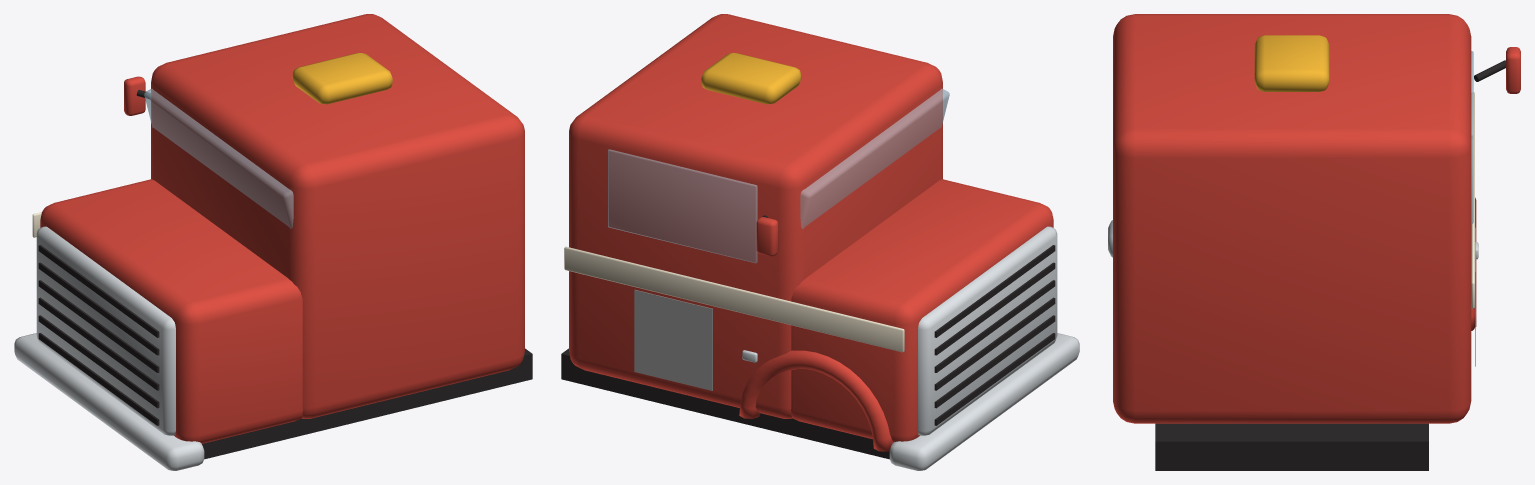
Rendered from truck_cab.fbx.
The picture shows the model from 3 angles, left to right: view 1: azimuth 30°, elevation 25°; view 2: azimuth 150°, elevation 25°; view 3: azimuth 270°, elevation 25°; orthographic projection. The views are drawn at different scales.
Parts seen in each view (by area): view 1: truck_cab; view 2: truck_cab; view 3: truck_cab.
Part boxes in pixels (box(x1,y1,x2,y2)): truck_cab: box(14, 14, 532, 470); truck_cab: box(561, 14, 1079, 470); truck_cab: box(1108, 14, 1520, 470).
Size of the model in its own units: 2.05 by 1.53 by 1.66.
